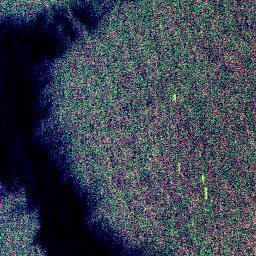Ship: (202, 186, 211, 201), (170, 91, 178, 103), (175, 161, 182, 174), (199, 172, 206, 185)
